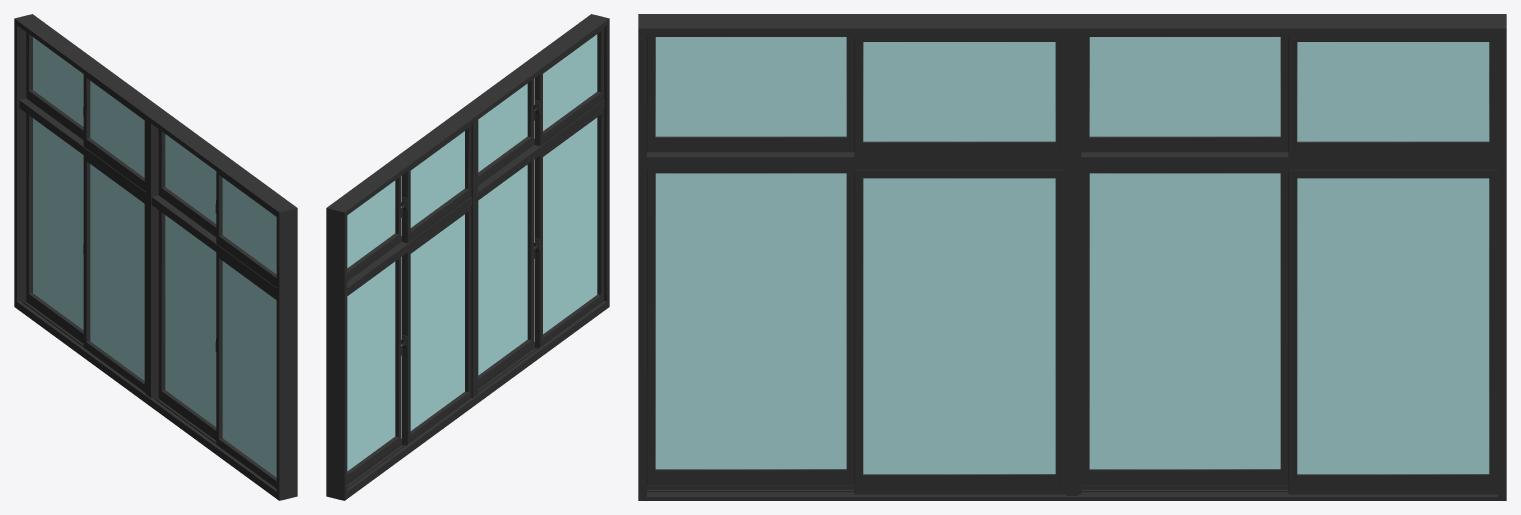
Rendered from SM_Window_300.fbx.
The picture shows the model from 3 angles, left to right: view 1: azimuth 30°, elevation 25°; view 2: azimuth 150°, elevation 25°; view 3: azimuth 270°, elevation 25°; orthographic projection. The views are drawn at different scales.
Visible parts, largest first — view 1: SM_Window_300_LOD0; view 2: SM_Window_300_LOD0; view 3: SM_Window_300_LOD0.
Part boxes in pixels (x1=…): SM_Window_300_LOD0: x1=14, y1=14, x2=297, y2=500; SM_Window_300_LOD0: x1=326, y1=14, x2=609, y2=500; SM_Window_300_LOD0: x1=638, y1=14, x2=1506, y2=500.
Bounding box in the file's own units: 12 × 300 × 180.
